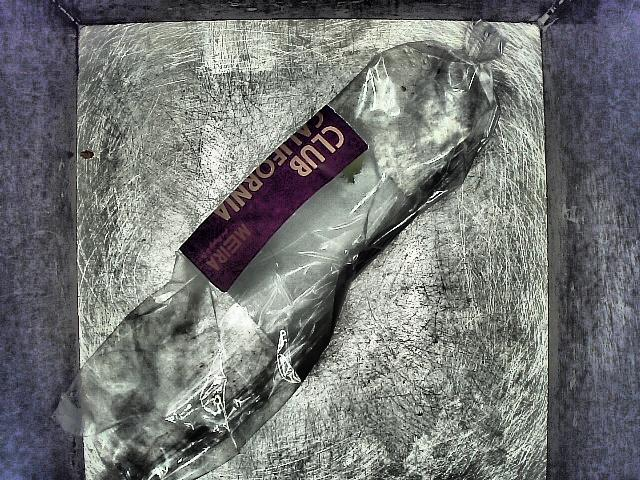Plastic: (80, 17, 514, 480)
